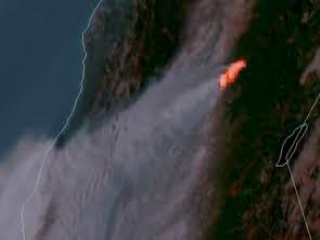fire: (218, 59, 256, 93)
smoke: (108, 29, 224, 230)
